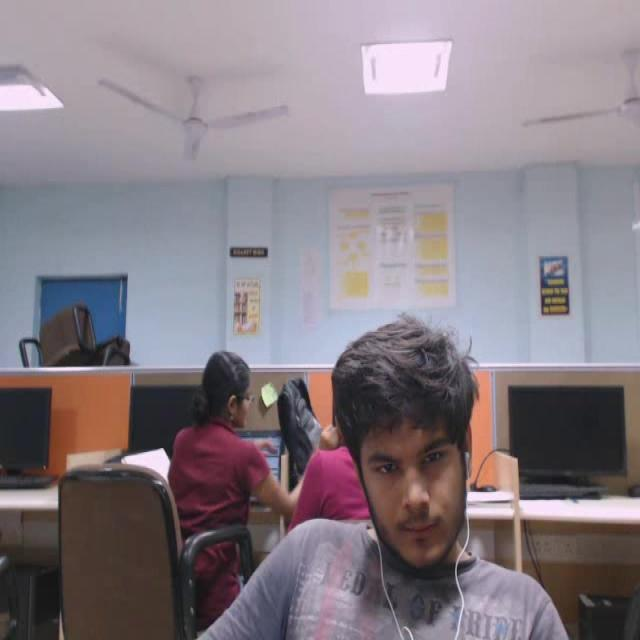Engaged: (319, 307, 515, 588)
